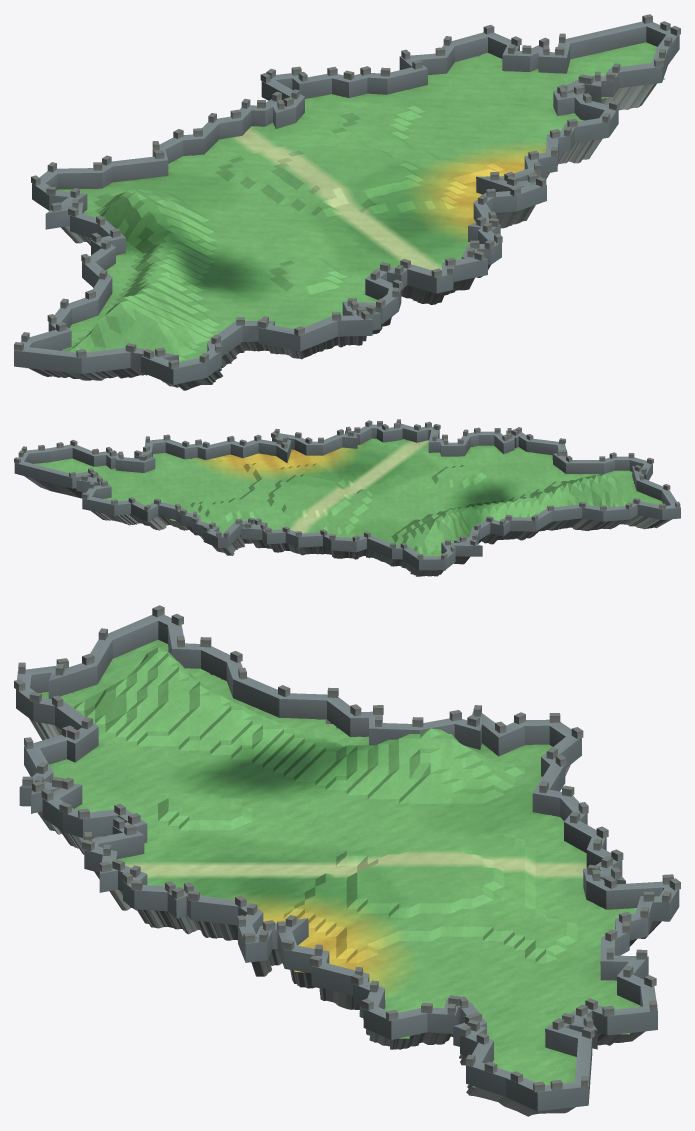
3 views of the same model, one above another, from view 1: azimuth 30°, elevation 25°; view 2: azimuth 150°, elevation 25°; view 3: azimuth 270°, elevation 25° (orthographic). The views are drawn at different scales.
Parts seen in each view (by area): view 1: ground_46ac39e9; view 2: ground_46ac39e9; view 3: ground_46ac39e9.
Part boxes in pixels (x1=…): ground_46ac39e9: x1=14, y1=14, x2=680, y2=390; ground_46ac39e9: x1=14, y1=419, x2=680, y2=576; ground_46ac39e9: x1=14, y1=605, x2=680, y2=1116.
Bounding box in the file's own units: 163 × 10.84 × 95.39.
2 materials, 1 textured.
